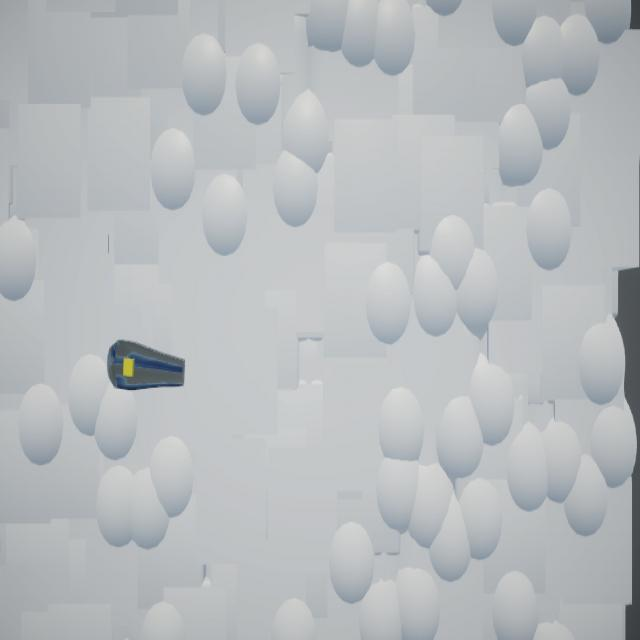handle_knife: (108, 341, 186, 393)
